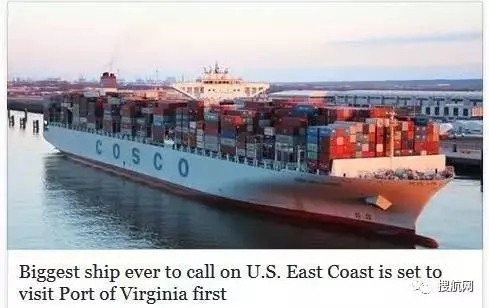Cargoship: (39, 61, 457, 236)
